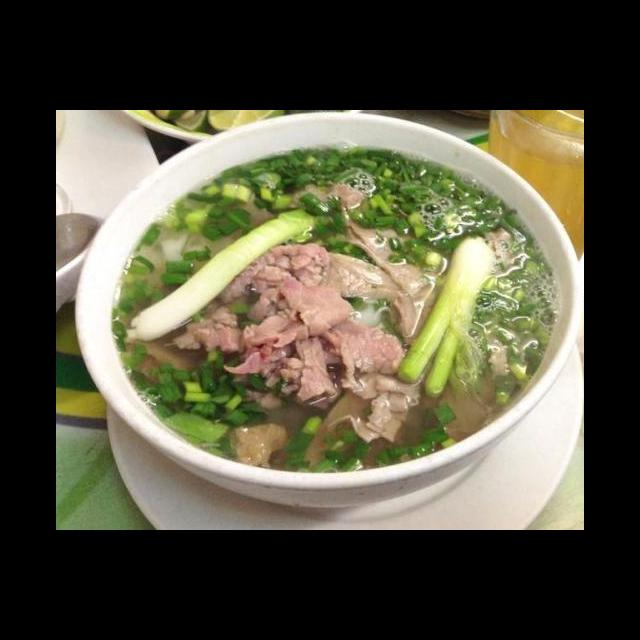thit bo: (324, 206, 450, 295), (218, 327, 346, 414), (214, 238, 334, 327), (234, 273, 359, 355), (315, 311, 411, 389), (335, 370, 425, 448), (162, 293, 242, 357)
